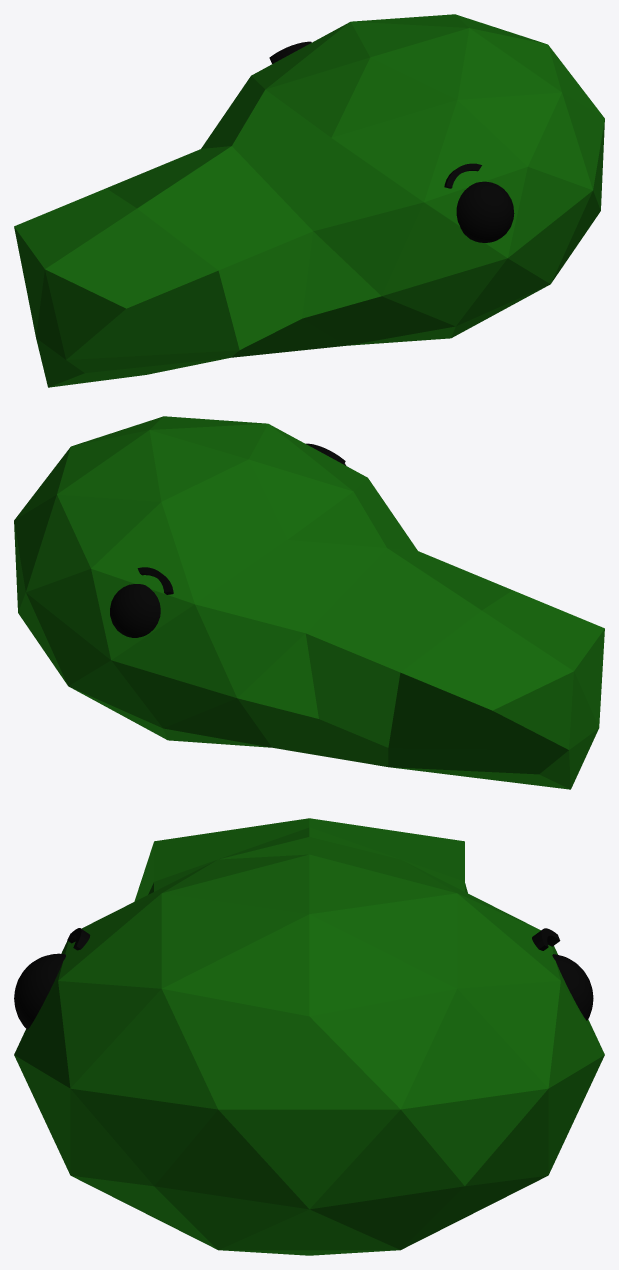
Rendered from TurtleHead.fbx.
3 renders of one model, top to bottom at view 1: azimuth 30°, elevation 25°; view 2: azimuth 150°, elevation 25°; view 3: azimuth 270°, elevation 25°, orthographic. The views are drawn at different scales.
Visible parts, largest first — view 1: Head, Cylinder.001; view 2: Head, Cylinder.001; view 3: Head, Cylinder.001.
Part boxes in pixels (x1,y1,x2,y2): Head: [14, 14, 604, 387]; Cylinder.001: [269, 41, 514, 242]; Head: [14, 416, 604, 789]; Cylinder.001: [110, 443, 346, 637]; Head: [14, 818, 604, 1255]; Cylinder.001: [14, 928, 593, 1029].
Size of the model in its own units: 286 by 140 by 200.
